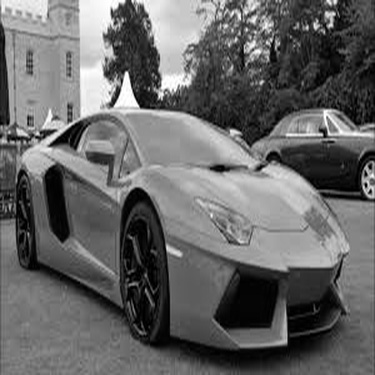car: (8, 101, 355, 359), (235, 99, 372, 210)
